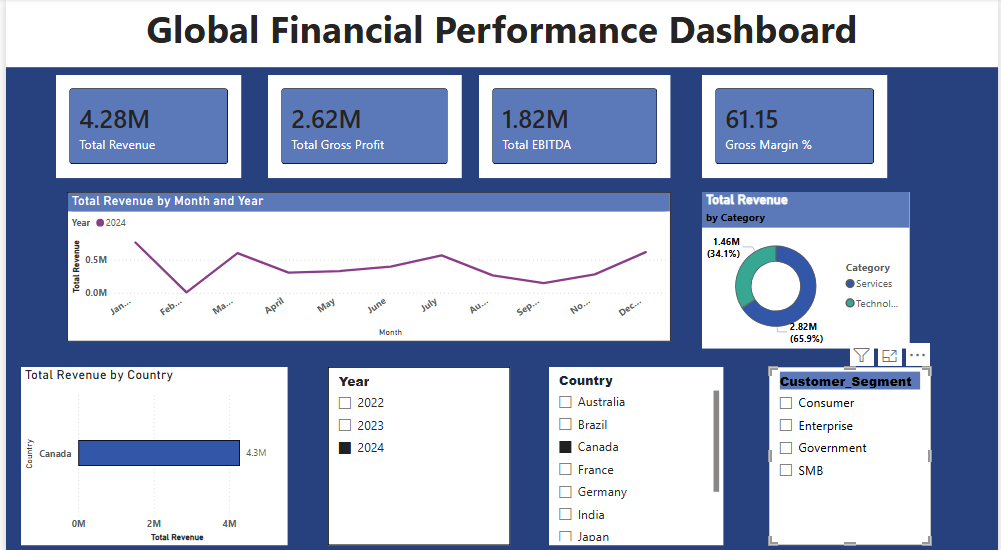

The dashboard page shown, as its layout file describes it:
{"tool":"powerbi","page":{"name":"Page 1","canvas":[1280,720],"ordinal":0},"visuals":[{"type":"textbox","box":[0,0,1280,88.4],"z":0},{"type":"cardVisual","fields":{"Data":["Financial_Report_International.Total Revenue"]},"box":[65.1,98.4,239.3,132.9],"z":1000},{"type":"cardVisual","fields":{"Data":["Financial_Report_International.Gross Margin %"]},"box":[898.5,98.4,239.3,132.9],"z":2000},{"type":"cardVisual","fields":{"Data":["Financial_Report_International.Total Gross Profit"]},"box":[337.6,98.4,249.9,132.9],"z":3000},{"type":"cardVisual","fields":{"Data":["Financial_Report_International.Total EBITDA"]},"box":[610.1,98.4,247.2,132.9],"z":4000},{"type":"lineChart","fields":{"Y":["Financial_Report_International.Total Revenue"],"Category":["Financial_Report_International.Date.Variation.Date Hierarchy.Month"],"Series":["Financial_Report_International.Year"]},"box":[78.6,248.8,779.1,193.1],"z":5000},{"type":"barChart","fields":{"Y":["Financial_Report_International.Total Revenue"],"Category":["Financial_Report_International.Country"]},"box":[19.9,474.5,344.3,229.9],"z":6000},{"type":"donutChart","fields":{"Category":["Financial_Report_International.Category"],"Y":["Financial_Report_International.Total Revenue"]},"box":[898.5,248.6,268.5,202],"z":7000},{"type":"slicer","fields":{"Values":["Financial_Report_International.Year"]},"box":[416,474.5,235.3,229.9],"z":8000},{"type":"slicer","fields":{"Values":["Financial_Report_International.Country"]},"box":[700.5,474.5,224.6,229.9],"z":9000},{"type":"slicer","fields":{"Values":["Financial_Report_International.Customer_Segment"]},"box":[984.9,474.5,208.7,229.9],"z":10000}]}

Visuals, with their boxes in screenshot pixels (x1, y1, x2, y2), scaled from the page's 1280x720 canvas onto the 1001x550 screenshot:
textbox: region(0, 0, 1000, 68)
cardVisual - Financial_Report_International.Total Revenue: region(51, 75, 238, 177)
cardVisual - Financial_Report_International.Gross Margin %: region(703, 75, 890, 177)
cardVisual - Financial_Report_International.Total Gross Profit: region(264, 75, 459, 177)
cardVisual - Financial_Report_International.Total EBITDA: region(477, 75, 670, 177)
lineChart - Financial_Report_International.Total Revenue x Financial_Report_International.Date.Variation.Date Hierarchy.Month: region(61, 190, 671, 338)
barChart - Financial_Report_International.Total Revenue x Financial_Report_International.Country: region(16, 362, 285, 538)
donutChart - Financial_Report_International.Category x Financial_Report_International.Total Revenue: region(703, 190, 913, 344)
slicer - Financial_Report_International.Year: region(325, 362, 509, 538)
slicer - Financial_Report_International.Country: region(548, 362, 723, 538)
slicer - Financial_Report_International.Customer_Segment: region(770, 362, 933, 538)
